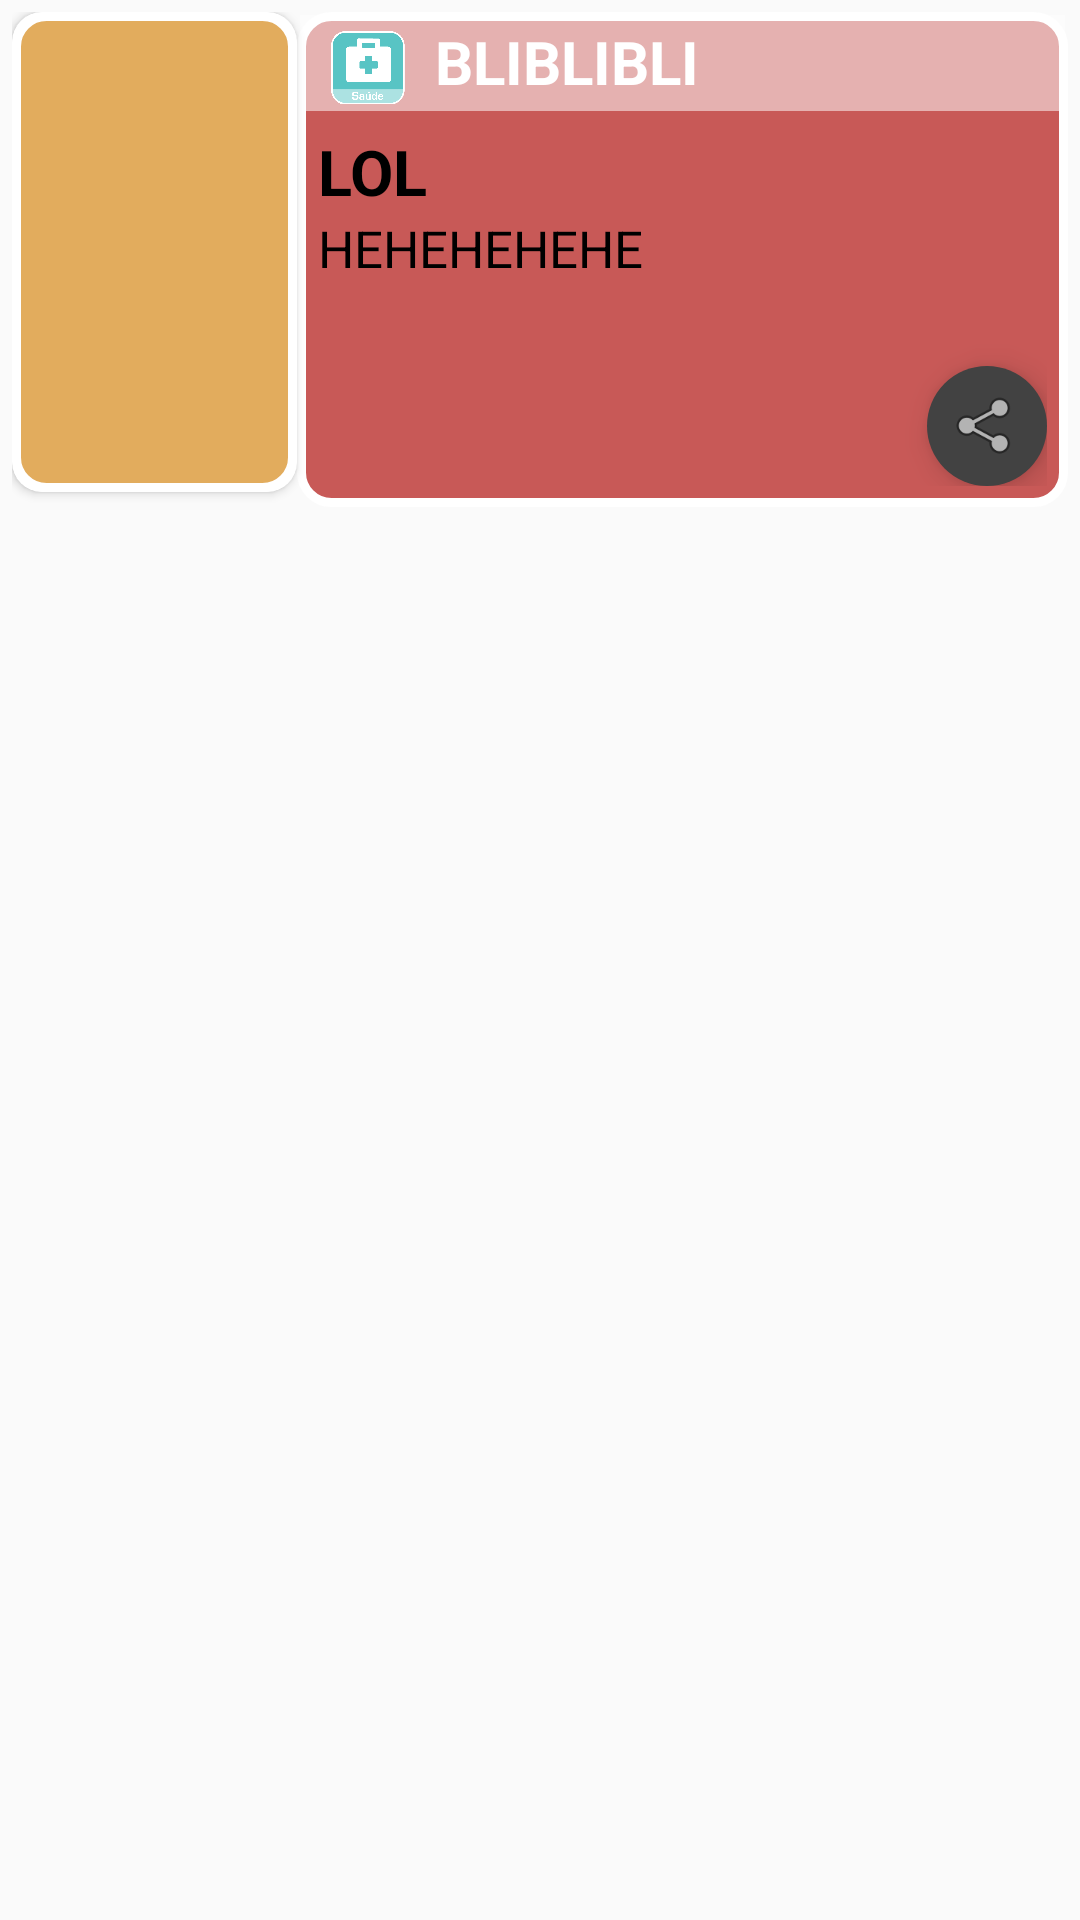

Icons on this 1080×1920 Android screen, each with the point to tap as point (x, y):
share: point (987, 426)
